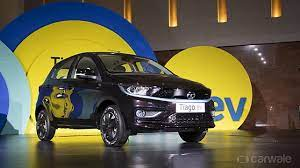Tiago: (31, 50, 217, 152)
